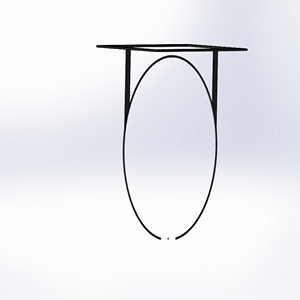circle: (89, 39, 247, 243)
